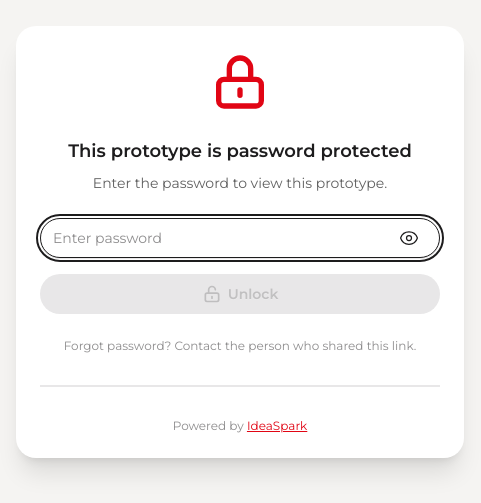
Test: PasswordProtectedViewer › should clear error message when user types new password
Type "wrongpassword" into the password field with test id "verify-password-input" at (240, 238), box [40, 218, 440, 258]
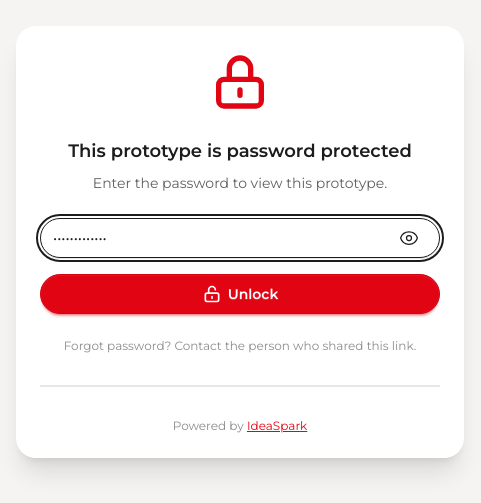
Click the button "Unlock" at (240, 294), box [40, 274, 440, 314]
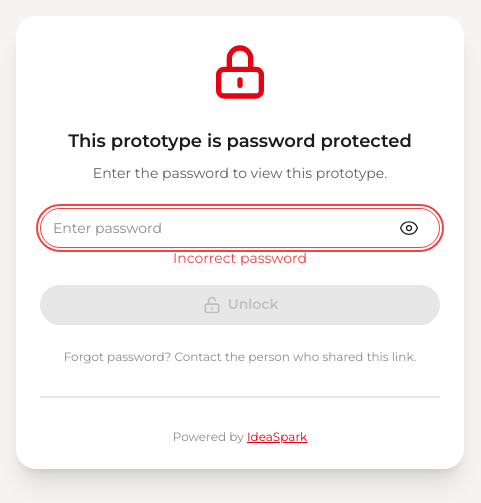
Check: the text "Incorrect password" is shown, box [173, 248, 307, 268]
# Type new password - error should clear
Type "newpassword" into the password field with test id "verify-password-input" at (240, 228), box [40, 208, 440, 248]
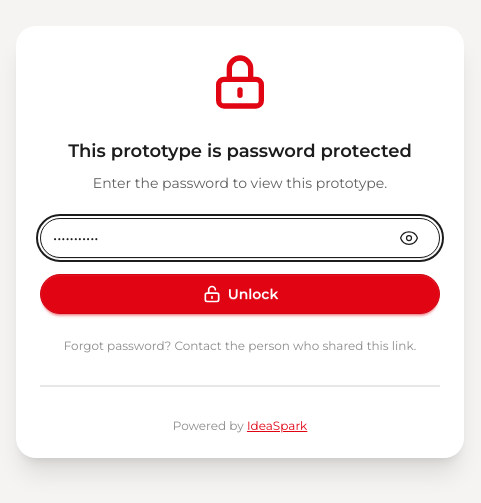
Check: the text "Incorrect password" is gone
